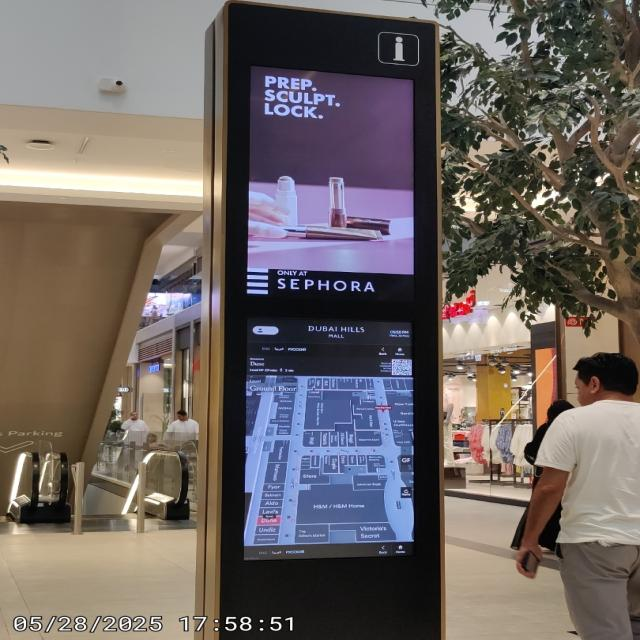mupi: (219, 1, 444, 639)
